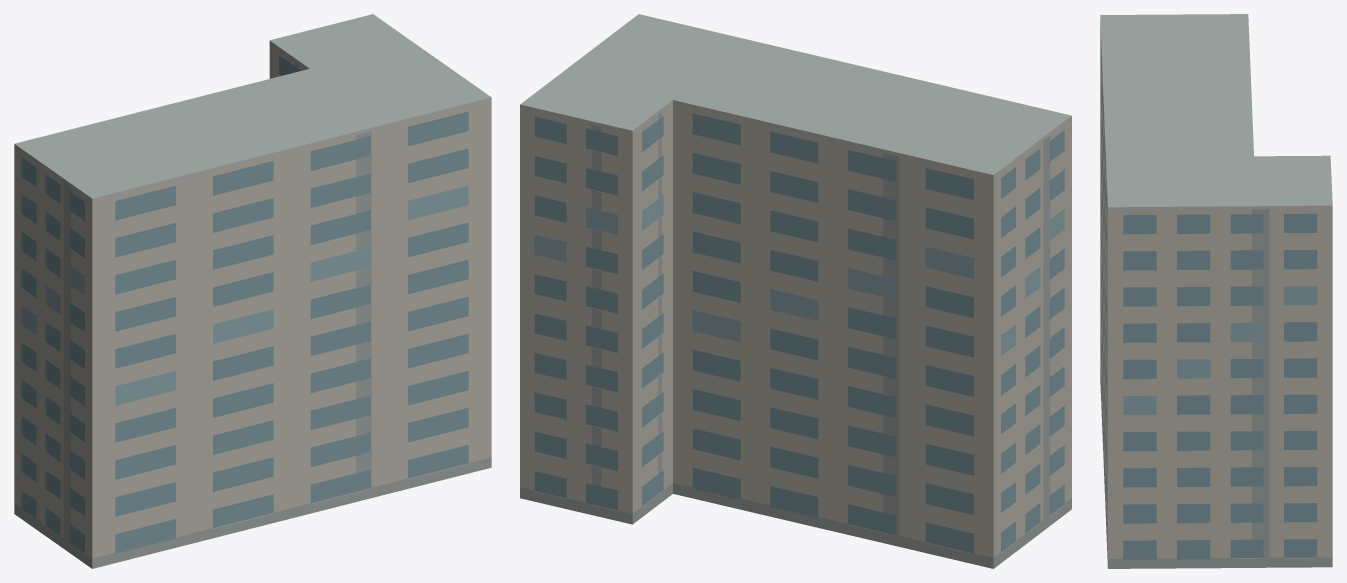
File: residential-d0266854-9bce-40b8-9f2a-d2bc72c10106.glb
3 renders of one model, left to right at view 1: azimuth 30°, elevation 25°; view 2: azimuth 150°, elevation 25°; view 3: azimuth 270°, elevation 25°, orthographic. The views are drawn at different scales.
Visible parts, largest first — view 1: residential-d0266854-9bce-40b8-9f2a-d2bc72c10106.tmp; view 2: residential-d0266854-9bce-40b8-9f2a-d2bc72c10106.tmp; view 3: residential-d0266854-9bce-40b8-9f2a-d2bc72c10106.tmp.
Part boxes in pixels (left/top/right/bottom): residential-d0266854-9bce-40b8-9f2a-d2bc72c10106.tmp: left=14, top=14, right=491, bottom=568; residential-d0266854-9bce-40b8-9f2a-d2bc72c10106.tmp: left=520, top=14, right=1071, bottom=568; residential-d0266854-9bce-40b8-9f2a-d2bc72c10106.tmp: left=1100, top=14, right=1332, bottom=568.
Size of the model in its own units: 30.95 by 27 by 15.74.
